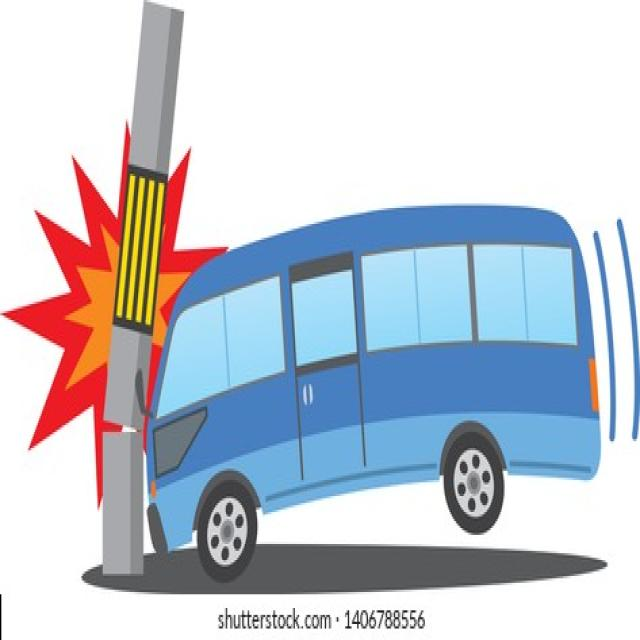Accident: (100, 164, 604, 583)
